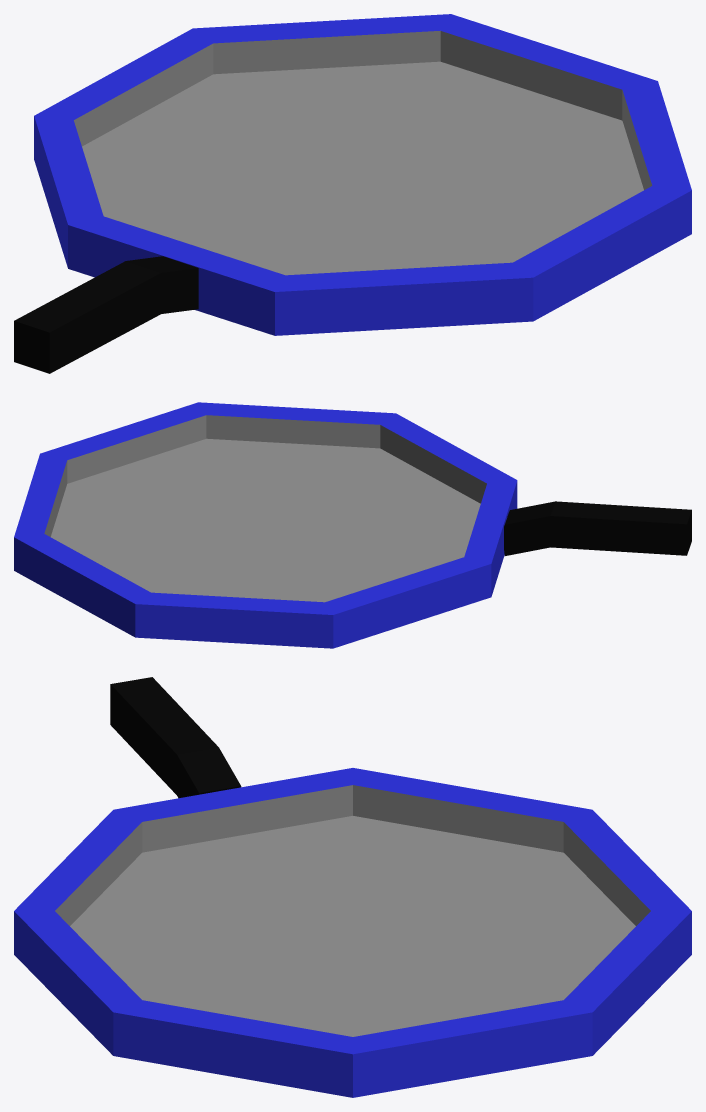
Rendered from pot1.fbx.
The picture shows the model from 3 angles, top to bottom: view 1: azimuth 30°, elevation 25°; view 2: azimuth 150°, elevation 25°; view 3: azimuth 270°, elevation 25°; orthographic projection. The views are drawn at different scales.
Parts seen in each view (by area): view 1: pot1; view 2: pot1; view 3: pot1.
Part boxes in pixels (bbox=[...]): pot1: bbox=[14, 14, 691, 373]; pot1: bbox=[14, 402, 691, 648]; pot1: bbox=[14, 677, 691, 1097].
Size of the model in its own units: 252 by 19.27 by 200.
